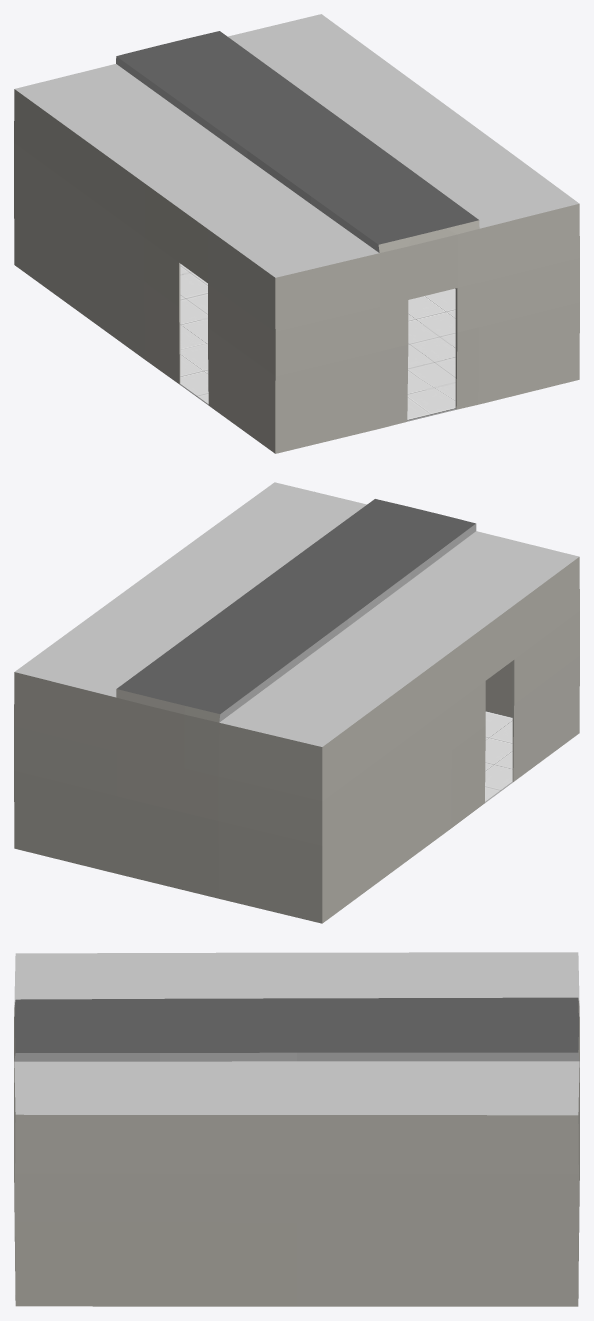
The model's file is office cabin walls.fbx.
The picture shows the model from 3 angles, top to bottom: view 1: azimuth 30°, elevation 25°; view 2: azimuth 150°, elevation 25°; view 3: azimuth 270°, elevation 25°; orthographic projection. The views are drawn at different scales.
Parts seen in each view (by area): view 1: Cube; view 2: Cube; view 3: Cube.
Part boxes in pixels (x1=…): Cube: x1=14, y1=14, x2=579, y2=453; Cube: x1=14, y1=482, x2=579, y2=923; Cube: x1=14, y1=952, x2=579, y2=1306.
Bounding box in the file's own units: 414 × 237 × 606.
